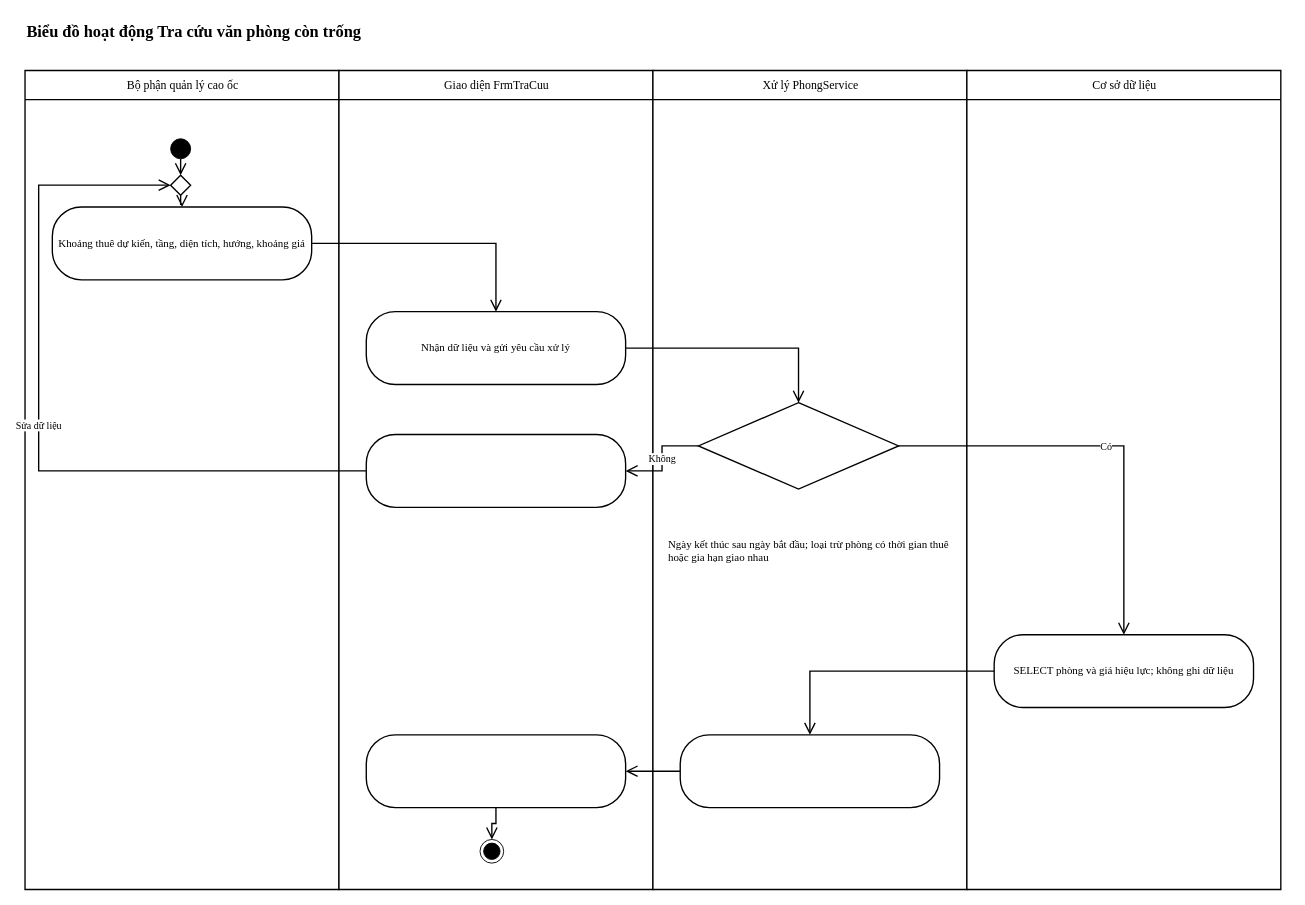
Some shapes in this 1305 by 905 pixel diagram are drawn without their labels. Here are the shapes that lost their labels. From the top down, the centre of each, then its label:
At pixel 798 445: "Đủ điều kiện nghiệp vụ?".
At pixel 495 470: "Hiển thị nguyên nhân từ chối".
At pixel 495 771: "Hiển thị kết quả và nạp lại danh sách".
At pixel 809 771: "Trả kết quả và số dư / dữ liệu mới".
